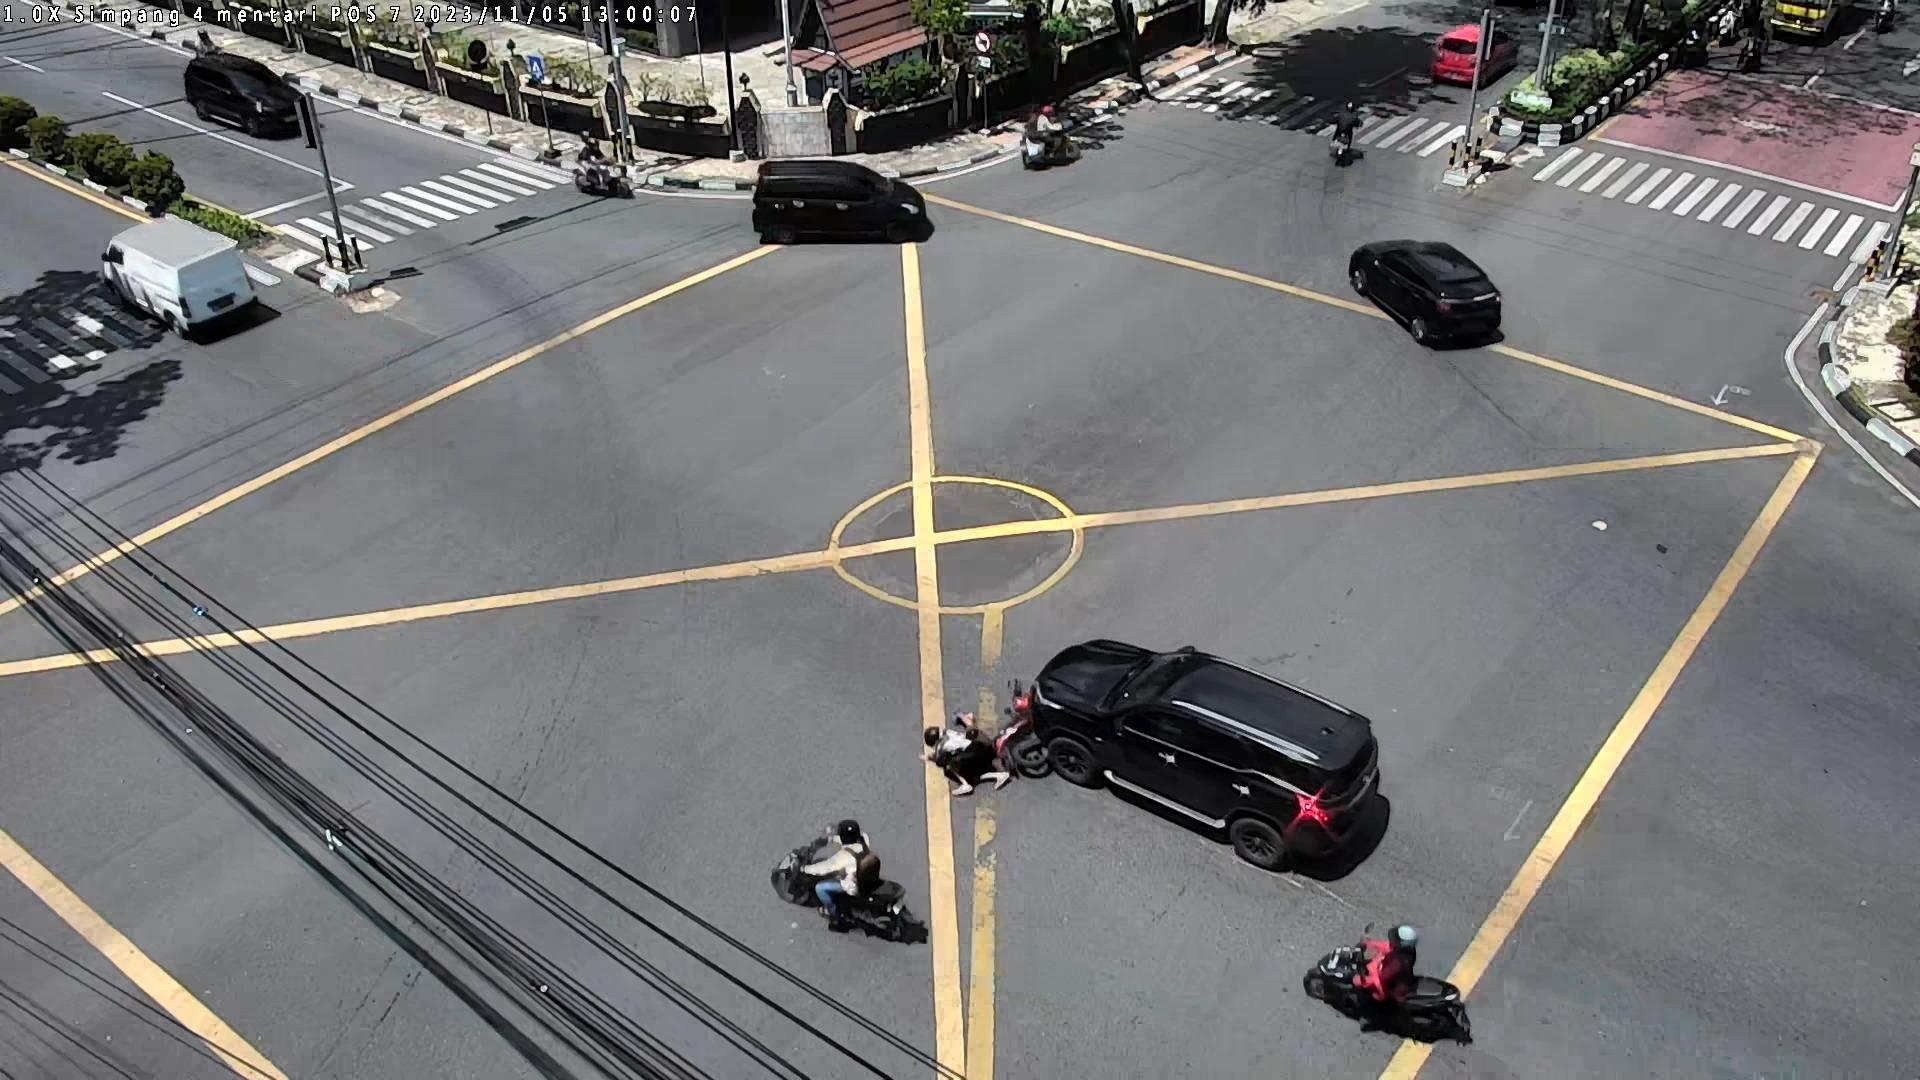accident: (918, 712, 1010, 796)
